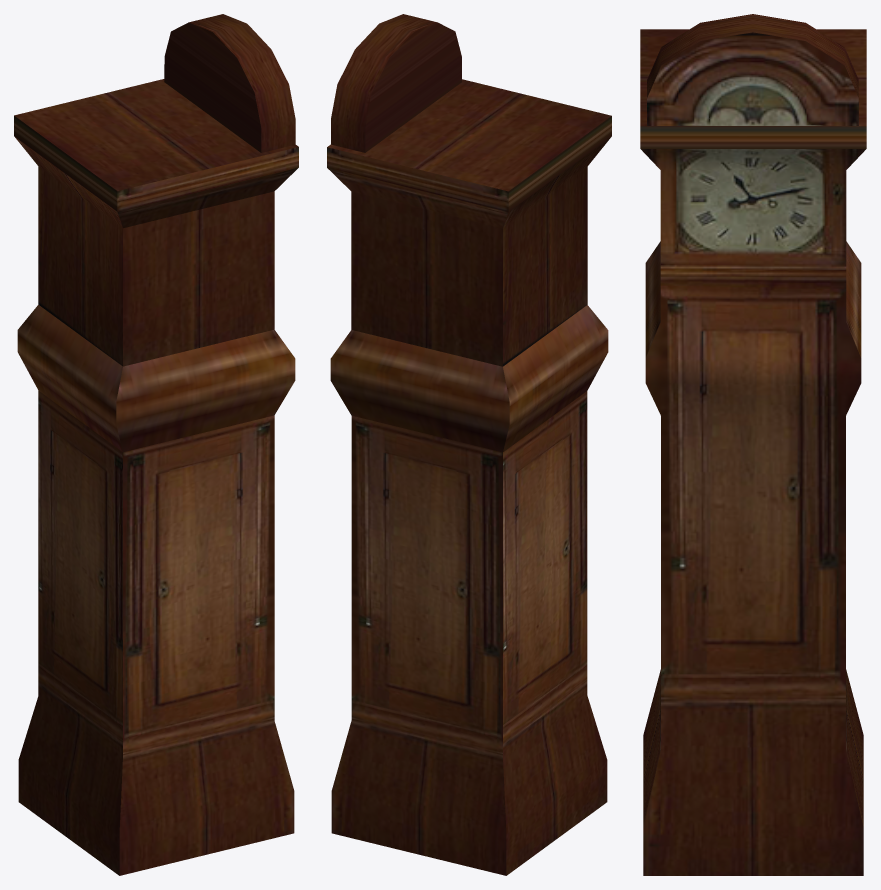
The model's file is clock.obj.
The picture shows the model from 3 angles, left to right: view 1: azimuth 30°, elevation 25°; view 2: azimuth 150°, elevation 25°; view 3: azimuth 270°, elevation 25°; orthographic projection. The views are drawn at different scales.
Visible parts, largest first — view 1: br_clock1; view 2: br_clock1; view 3: br_clock1.
Part boxes in pixels (x1=…): br_clock1: x1=14, y1=14, x2=298, y2=875; br_clock1: x1=327, y1=14, x2=611, y2=875; br_clock1: x1=640, y1=14, x2=866, y2=875.
Size of the model in its own units: 29.88 by 121 by 29.48.
Materials: 1 (1 with a texture image).
